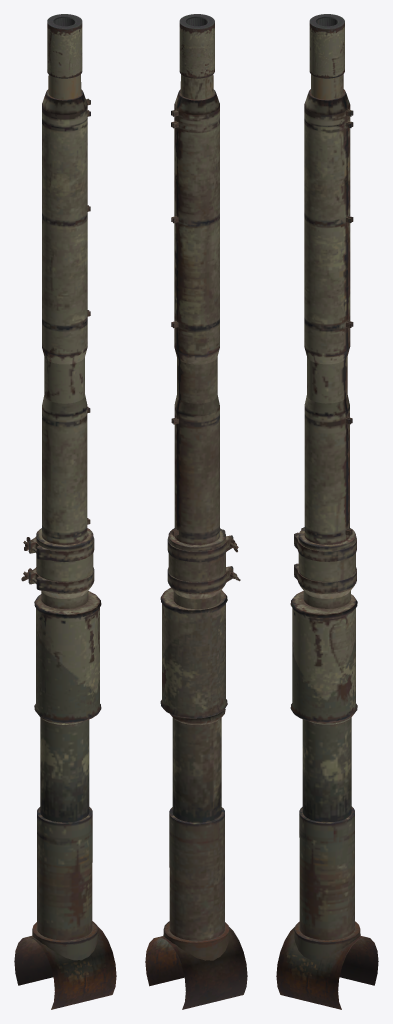
Rendered from Gun_10.glb.
3 renders of one model, left to right at view 1: azimuth 30°, elevation 25°; view 2: azimuth 210°, elevation 25°; view 3: azimuth 330°, elevation 25°, orthographic.
Visible parts, largest first — view 1: set_0_group_0; view 2: set_0_group_0; view 3: set_0_group_0.
Boxes of the visible parts, <box> form: set_0_group_0: <box>14,14,116,1009</box>; set_0_group_0: <box>145,14,247,1009</box>; set_0_group_0: <box>276,14,378,1009</box>.
Size of the model in its own units: 0.359 by 5.21 by 0.3938.
Materials: 1 (1 with a texture image).
